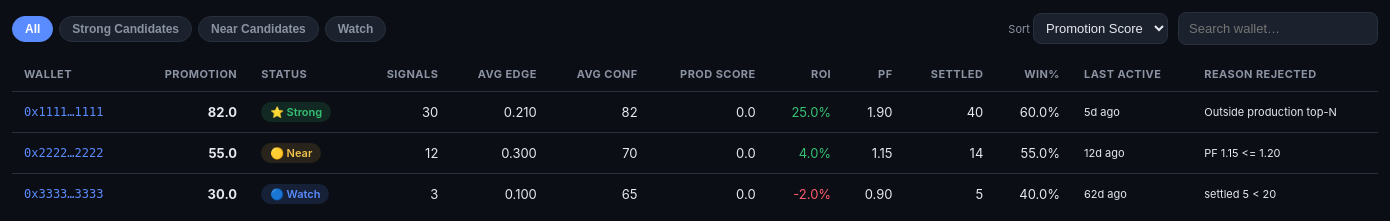
PromotionCandidatesTable › searches by wallet address
Type "0x2222" into the field labelled "Search wallet" at (1278, 28), box [1178,12,1378,45]
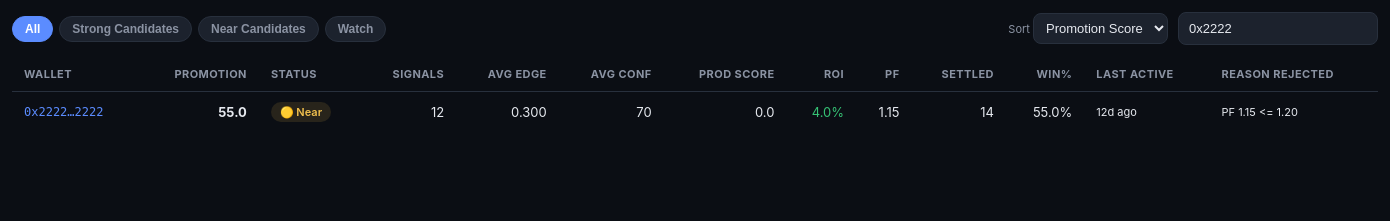
Result: the number of rows with test id "promo-row" is 1 at [12,92,1378,132]
